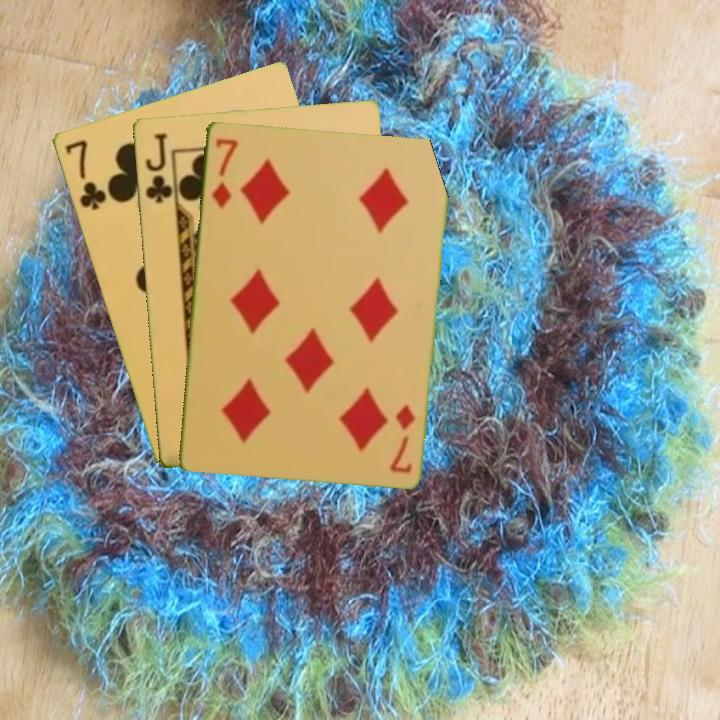7c: (61, 136, 109, 213)
7d: (208, 134, 241, 211), (387, 400, 418, 476)
Jc: (141, 129, 175, 206)
